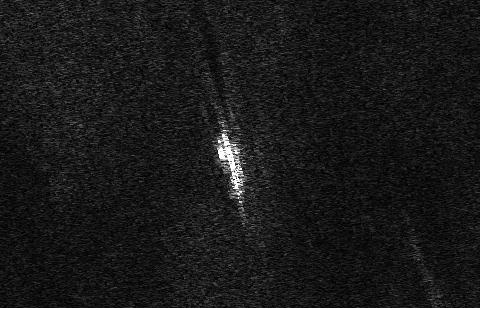ship: (215, 129, 248, 201)
